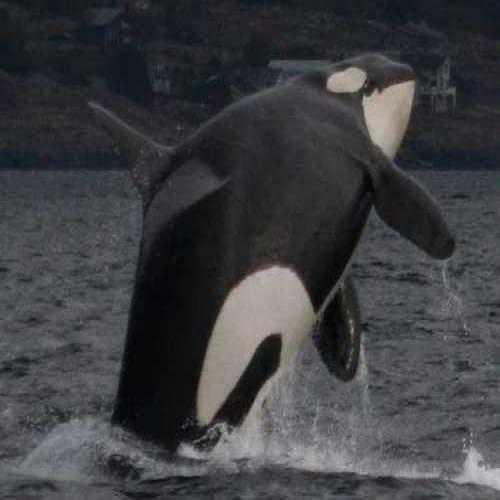killer_whale-endangered: (91, 39, 458, 462)
